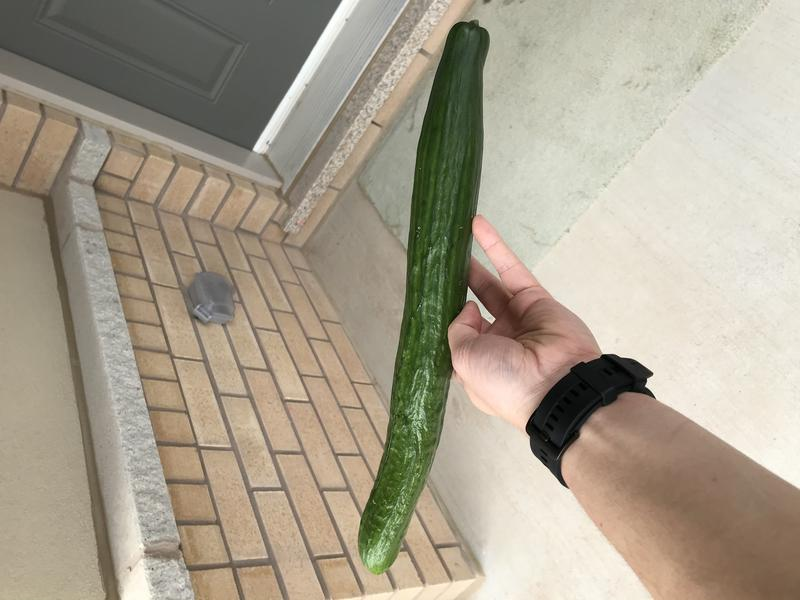cucumber: (343, 18, 504, 586)
